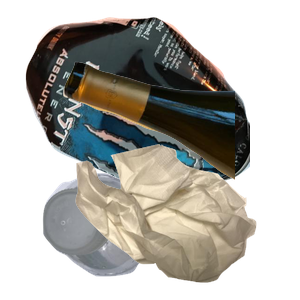glass: (60, 59, 300, 231)
metal: (23, 15, 263, 195)
plastic: (40, 170, 187, 300)
trash: (73, 142, 300, 300)
